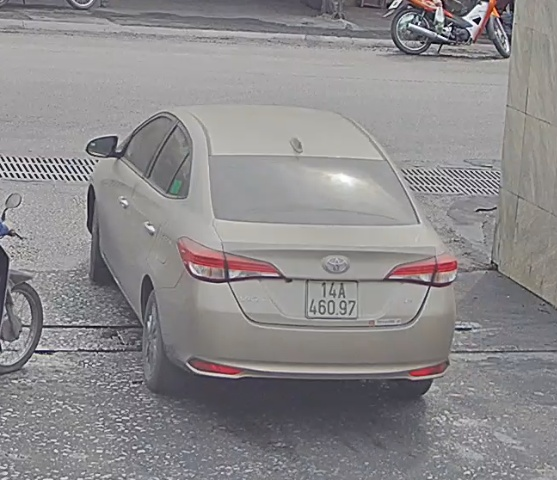vehicle plate: (299, 272, 366, 323)
